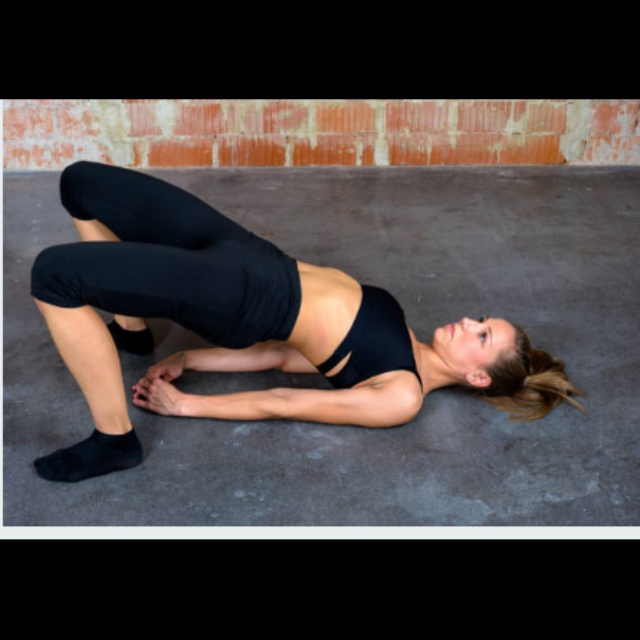Bridge_Pose: (19, 152, 589, 493)
